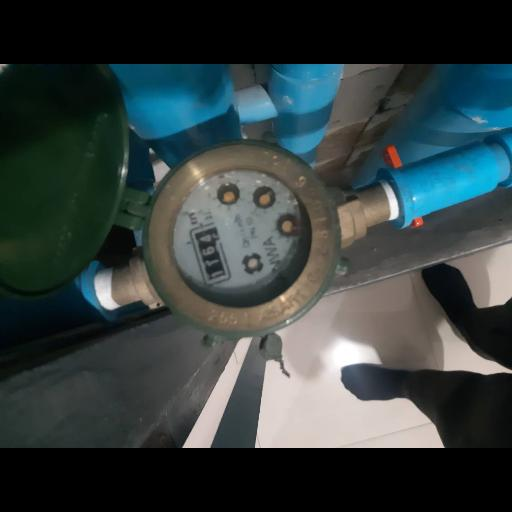1: (202, 256, 222, 271), (207, 267, 226, 281)
4: (195, 230, 220, 247)
6: (200, 243, 219, 259)
border_water_meter_number: (188, 221, 233, 287)
